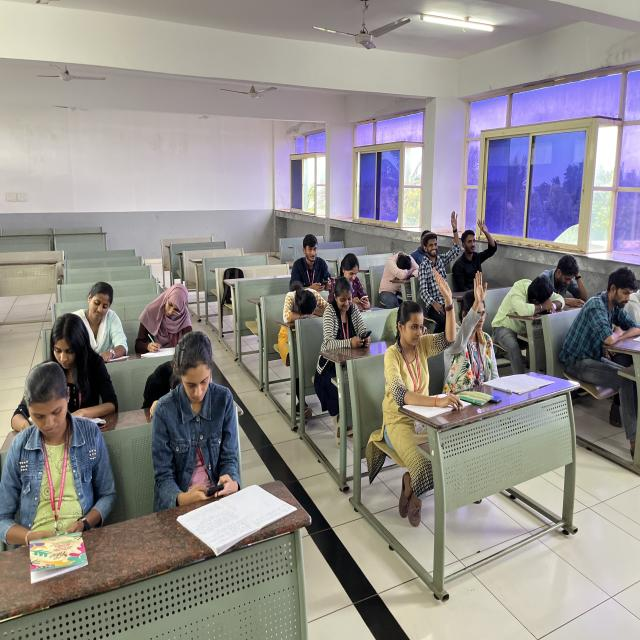Hand Rising: (391, 264, 457, 423), (454, 267, 501, 389), (421, 208, 462, 290), (461, 212, 497, 291)
Reading: (570, 262, 640, 382)
Sleeping: (496, 273, 561, 330), (279, 286, 332, 334), (380, 249, 422, 298)
Using Phone: (2, 356, 114, 560), (152, 328, 246, 514), (313, 275, 373, 372), (292, 232, 332, 292)
Writing: (15, 307, 125, 436), (129, 277, 201, 356), (70, 280, 134, 368)
